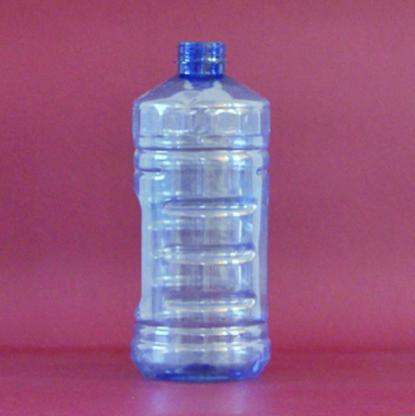Plastic Bottle: (124, 26, 278, 388)
